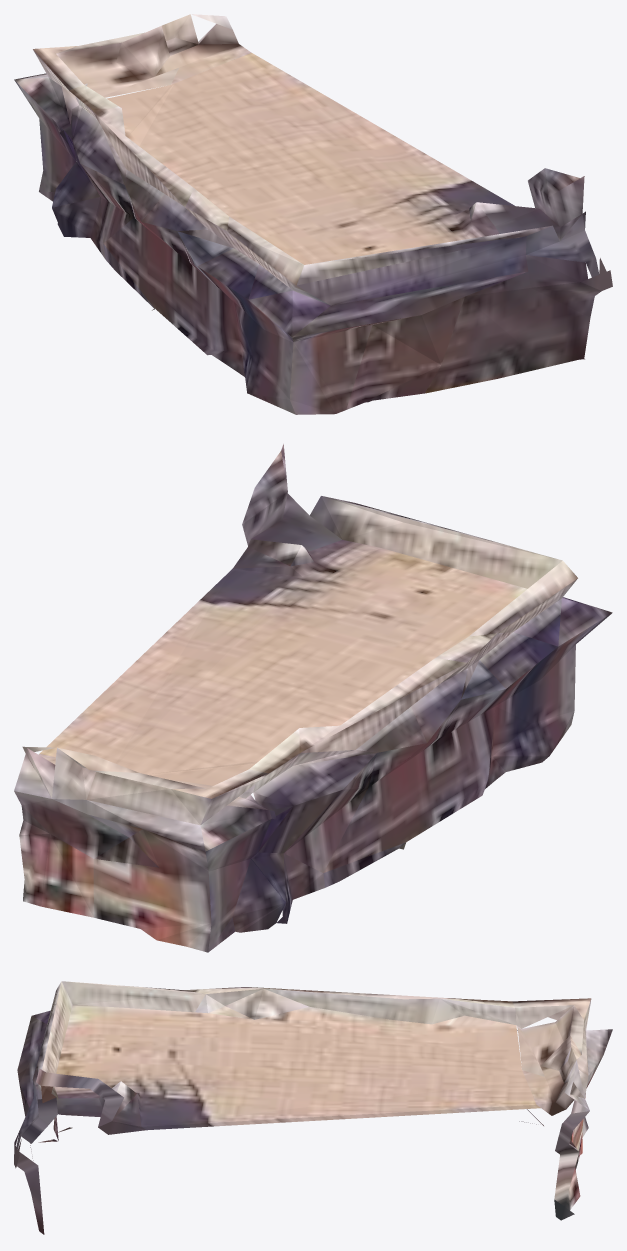
The picture shows the model from 3 angles, top to bottom: view 1: azimuth 30°, elevation 25°; view 2: azimuth 150°, elevation 25°; view 3: azimuth 270°, elevation 25°; orthographic projection. The views are drawn at different scales.
Parts seen in each view (by area): view 1: Mesh_0; view 2: Mesh_0; view 3: Mesh_0.
Boxes of the visible parts, bbox=[...] form: Mesh_0: bbox=[14, 14, 612, 414]; Mesh_0: bbox=[14, 444, 612, 952]; Mesh_0: bbox=[14, 981, 612, 1234].
Size of the model in its own units: 11.77 by 7.14 by 21.91.
1 material, 1 textured.
